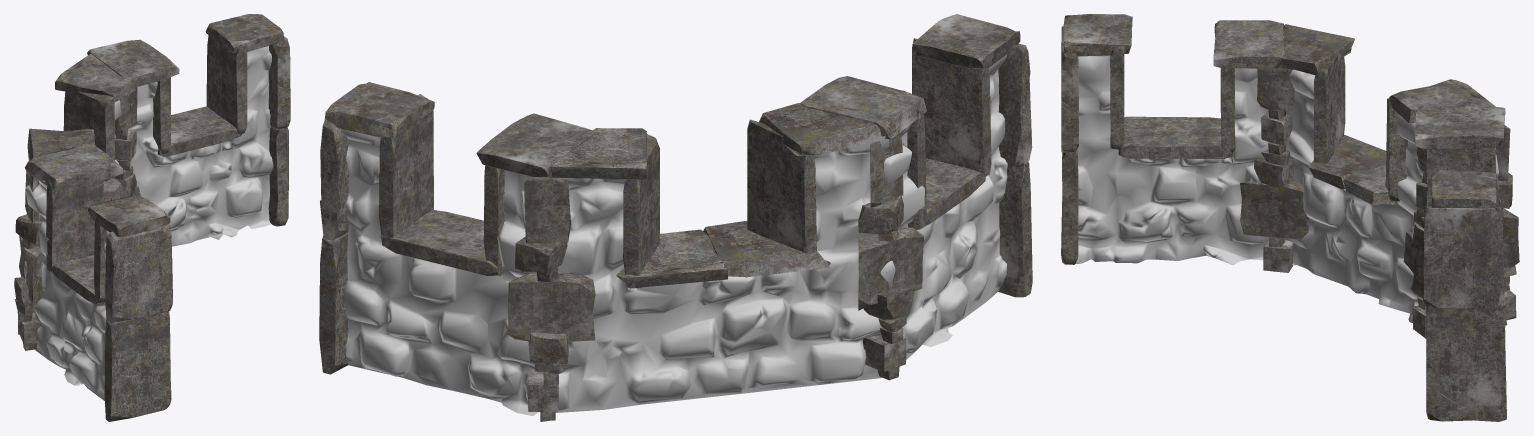
Rendered from SM_Crenel_A_03.fbx.
The picture shows the model from 3 angles, left to right: view 1: azimuth 30°, elevation 25°; view 2: azimuth 150°, elevation 25°; view 3: azimuth 270°, elevation 25°; orthographic projection. The views are drawn at different scales.
Parts seen in each view (by area): view 1: SM_Crenel_A_03_LOD0; view 2: SM_Crenel_A_03_LOD0; view 3: SM_Crenel_A_03_LOD0.
Boxes of the visible parts, x1,y1,x2,y2 form: SM_Crenel_A_03_LOD0: (14,14,290,421); SM_Crenel_A_03_LOD0: (319,14,1032,421); SM_Crenel_A_03_LOD0: (1061,14,1519,421).
Size of the model in its own units: 427 by 436 by 237.
